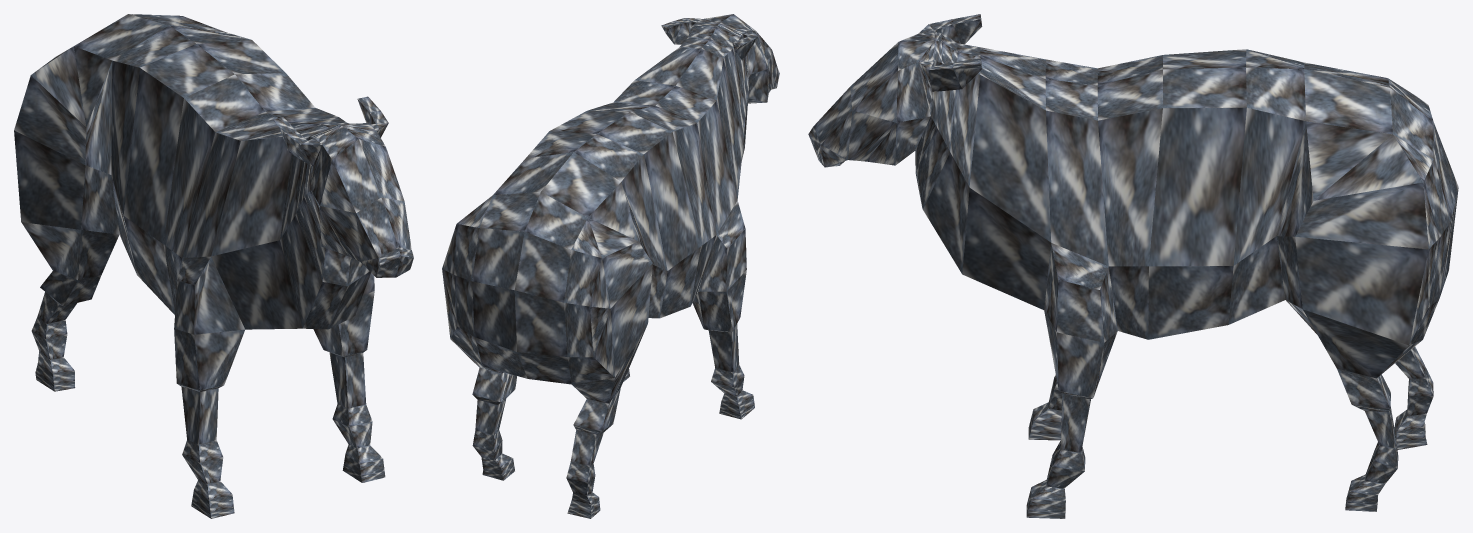
The model's file is SheepIdle_000039.obj.
3 renders of one model, left to right at view 1: azimuth 30°, elevation 25°; view 2: azimuth 150°, elevation 25°; view 3: azimuth 270°, elevation 25°, orthographic. The views are drawn at different scales.
Visible parts, largest first — view 1: Sheep_Cylinder; view 2: Sheep_Cylinder; view 3: Sheep_Cylinder.
Boxes of the visible parts, left/top/right/bottom form: Sheep_Cylinder: left=14, top=14, right=413, bottom=518; Sheep_Cylinder: left=442, top=14, right=779, bottom=518; Sheep_Cylinder: left=808, top=14, right=1458, bottom=518.
Bounding box in the file's own units: 2.22 × 4.4 × 5.92.
